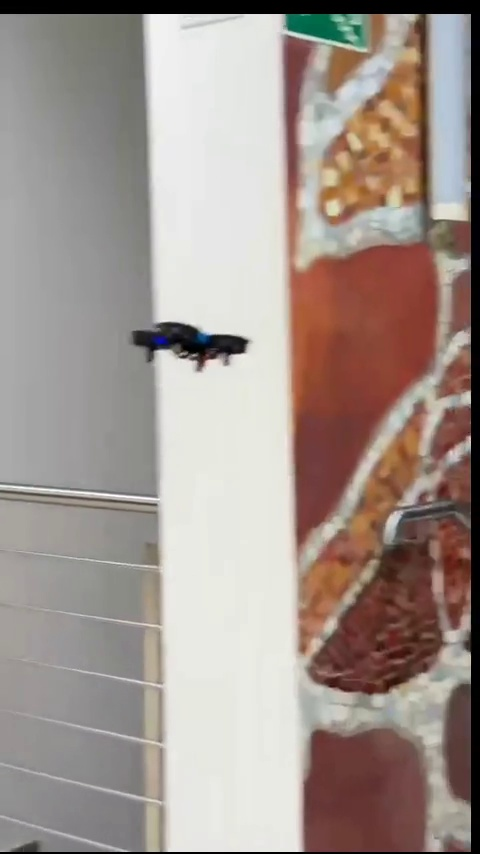drone: (135, 321, 264, 373)
